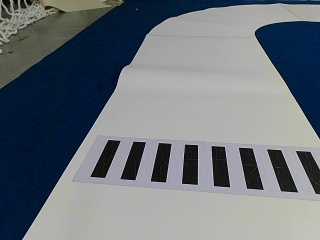crosswalk: (91, 140, 319, 194)
